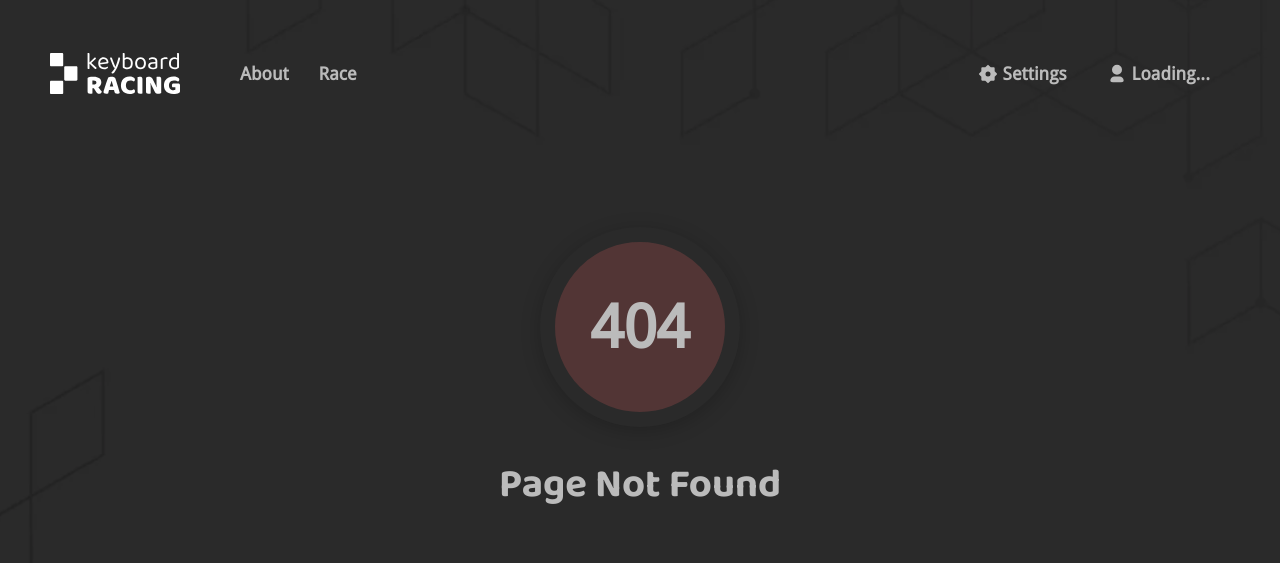
Test: App › should render 404 page
Expected: the text "Settings" is shown, [1002,60,1067,87]
Expected: the link "Loading..." is shown, [1132,60,1210,87]
Click the link "About". click: (264, 74)
box: [240,63,289,84]
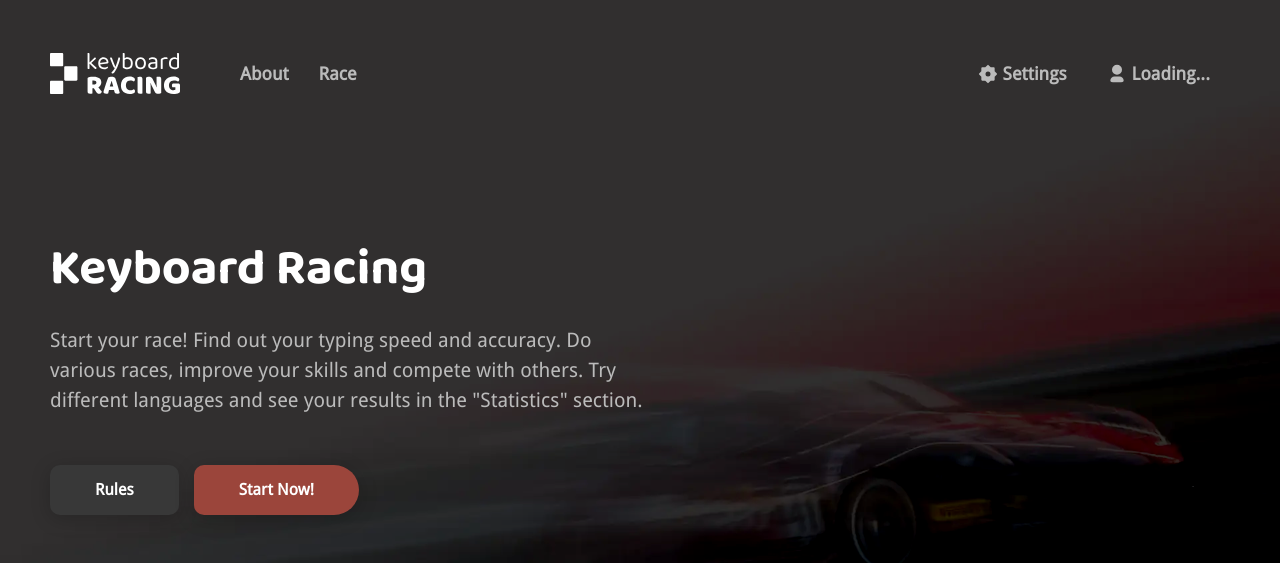
Now the heading "Keyboard Racing" is shown, box [50,229,427,315]
Now the text "Start your race! Find out your typing speed and accuracy. Do various" is shown, box [50,328,643,412]
